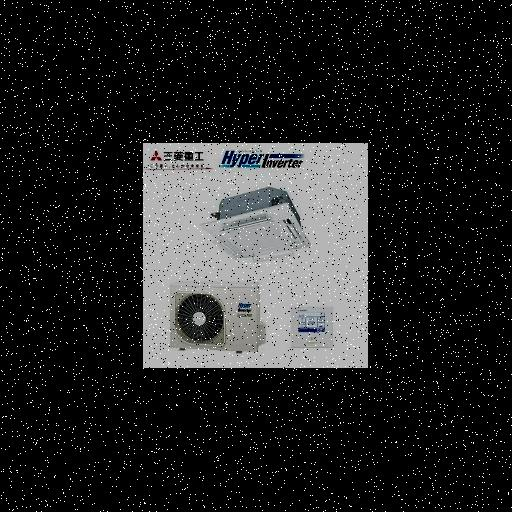4-way-ac: (202, 204, 311, 262)
